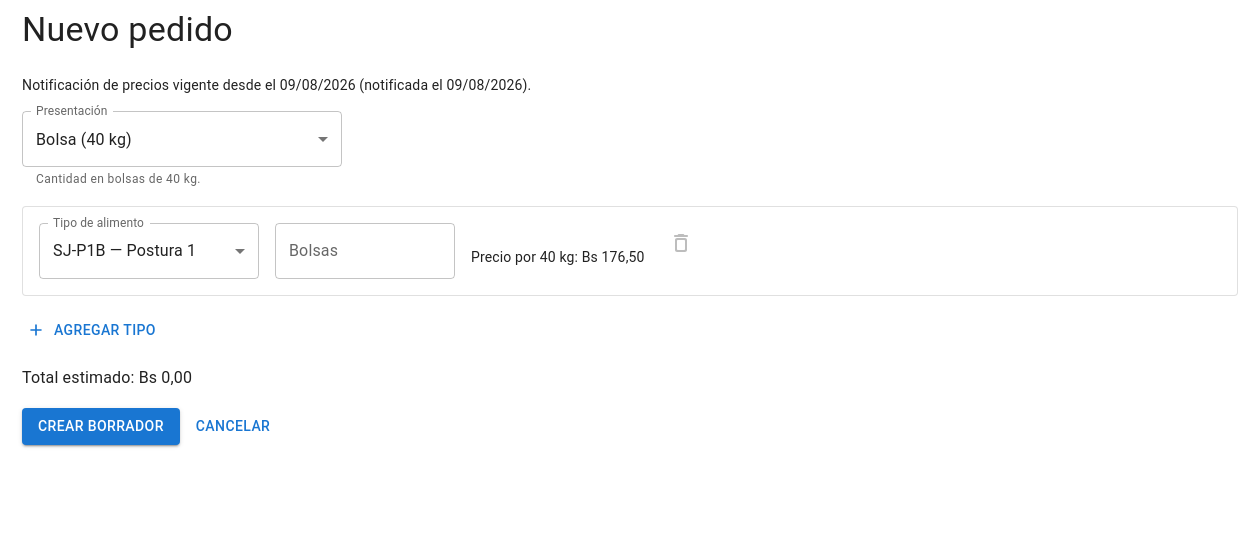
Test: PedidoFormularioPage › rechaza cantidades no enteras
Expected: the text "Precio por 40 kg: Bs 176,50" is shown, [471,249,645,265]
Type "100.5" into the number field labelled "Bolsas" at (365, 251), box [275,223,455,279]
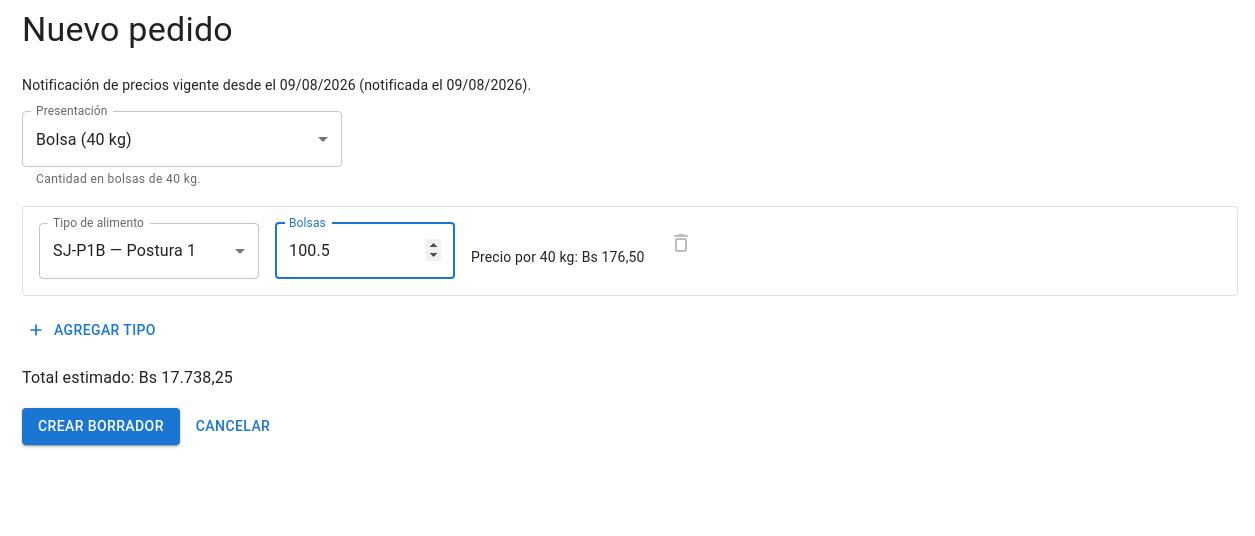
Click the button "Crear borrador" at (101, 427), box [22,408,180,445]
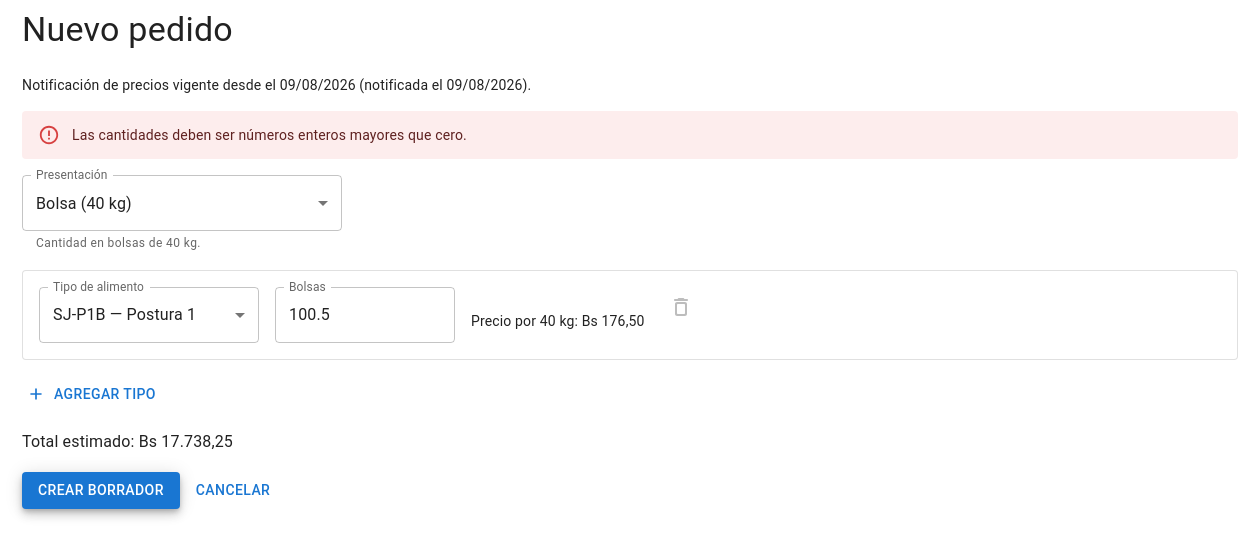
Result: the text "Las cantidades deben ser números enteros mayores que cero." is shown at [72,127,467,143]
